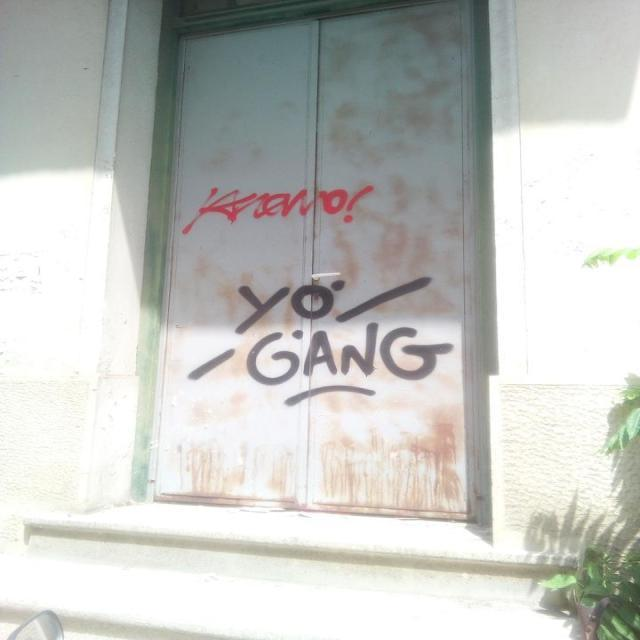nonspitting: (188, 278, 458, 406), (183, 184, 380, 236)
